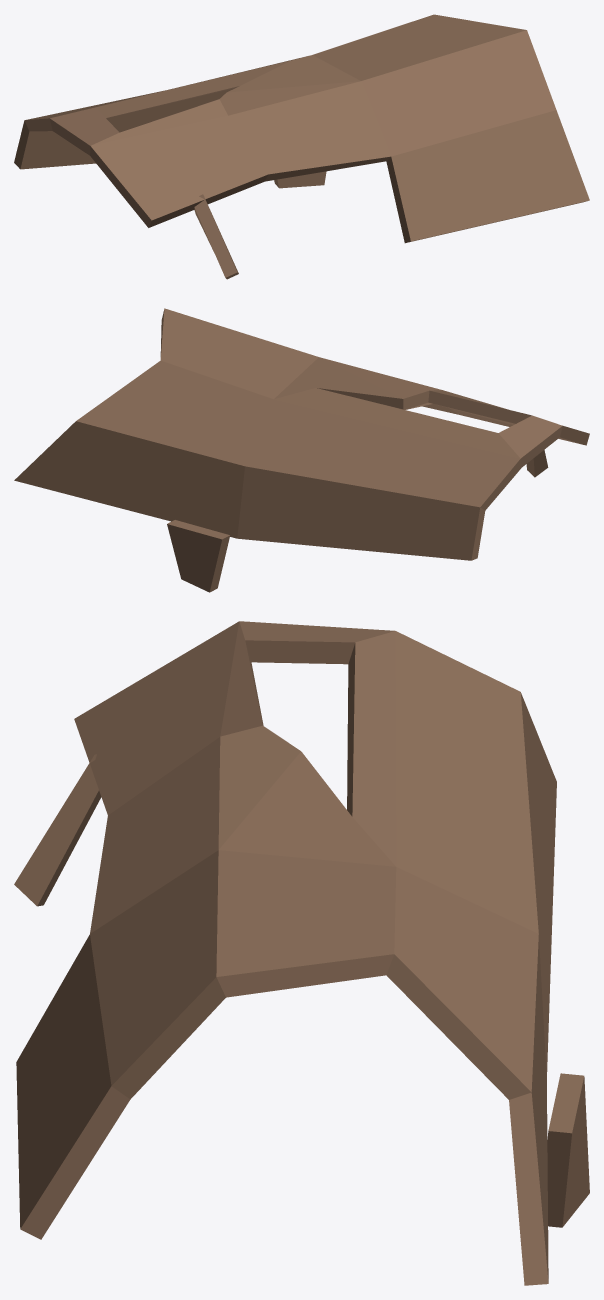
The model's file is Scrap01.fbx.
3 renders of one model, top to bottom at view 1: azimuth 30°, elevation 25°; view 2: azimuth 150°, elevation 25°; view 3: azimuth 270°, elevation 25°, orthographic. The views are drawn at different scales.
Visible parts, largest first — view 1: Cylinder.001; view 2: Cylinder.001; view 3: Cylinder.001.
Boxes of the visible parts, box(x1,y1,x2,y2) form: Cylinder.001: box(14, 14, 589, 279); Cylinder.001: box(14, 308, 589, 592); Cylinder.001: box(14, 621, 589, 1285).
Bounding box in the file's own units: 6.38 × 2.34 × 3.48.
